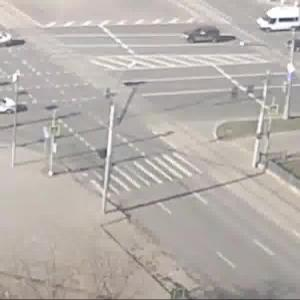car: (252, 8, 300, 32), (179, 24, 228, 46), (1, 30, 25, 50)
